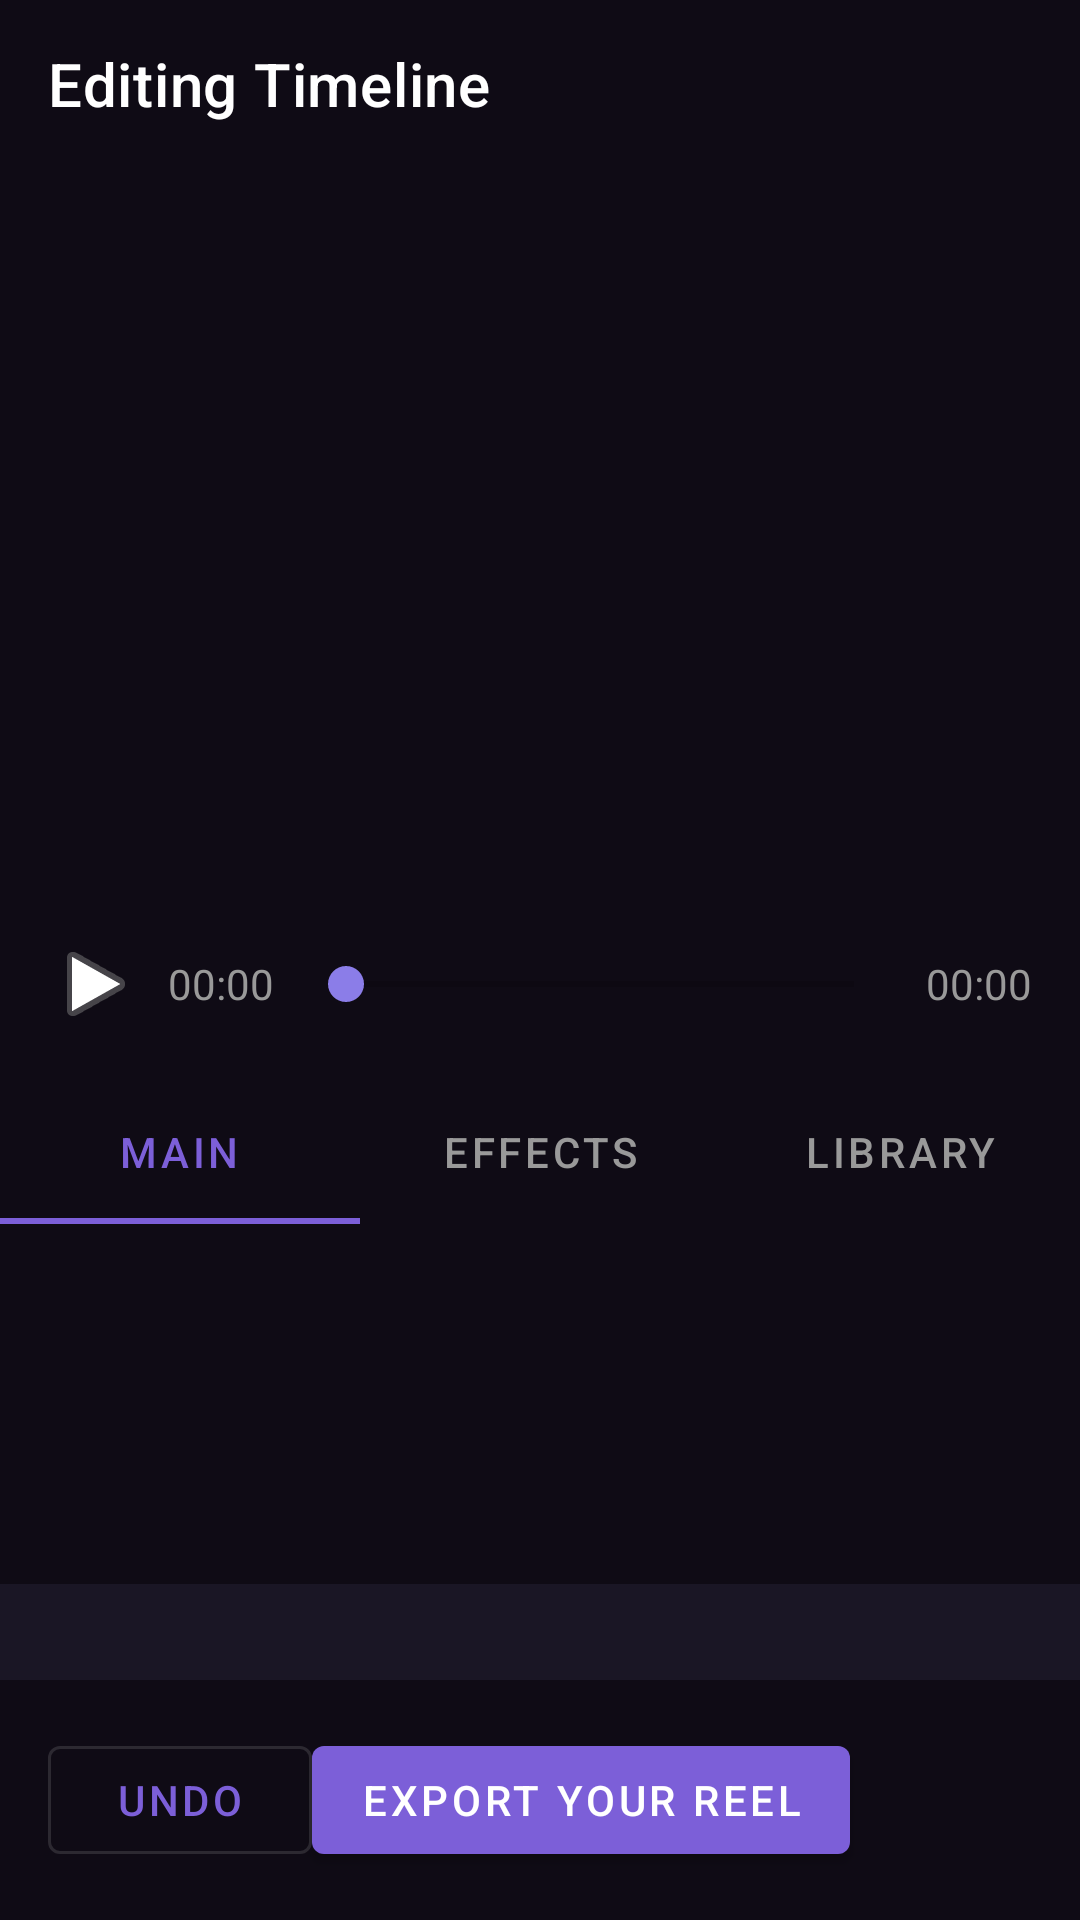

Icons on this 1080×1920 Android screen, each with its box as (x1, y1, x2, y2):
Play: (67, 952, 125, 1016)
